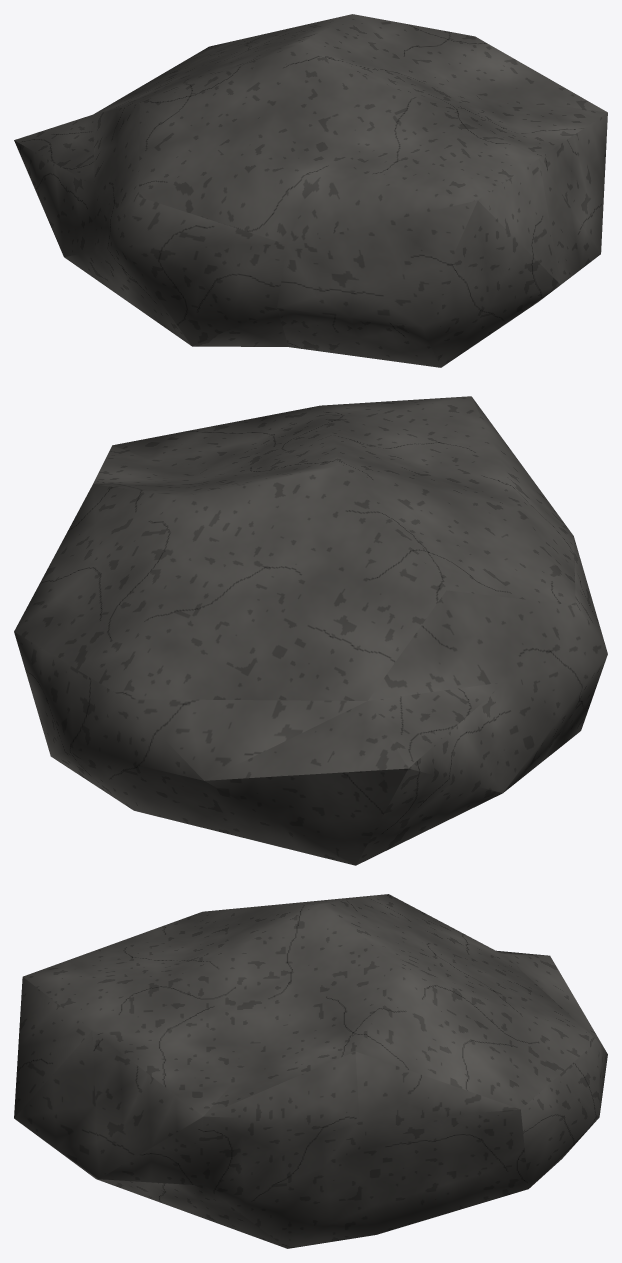
File: pebble.glb
The picture shows the model from 3 angles, top to bottom: view 1: azimuth 30°, elevation 25°; view 2: azimuth 150°, elevation 25°; view 3: azimuth 270°, elevation 25°; orthographic projection. The views are drawn at different scales.
Parts seen in each view (by area): view 1: pebble; view 2: pebble; view 3: pebble.
Boxes of the visible parts, <box> form: pebble: <box>14,14,607,367</box>; pebble: <box>14,396,607,865</box>; pebble: <box>14,894,607,1248</box>.
Size of the model in its own units: 7.07 by 4.48 by 7.83.
Materials: 1 (1 with a texture image).
